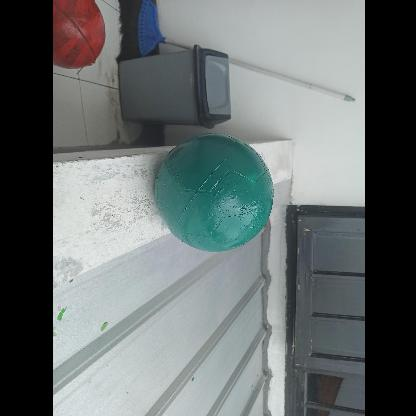green_ball: (154, 134, 272, 252)
